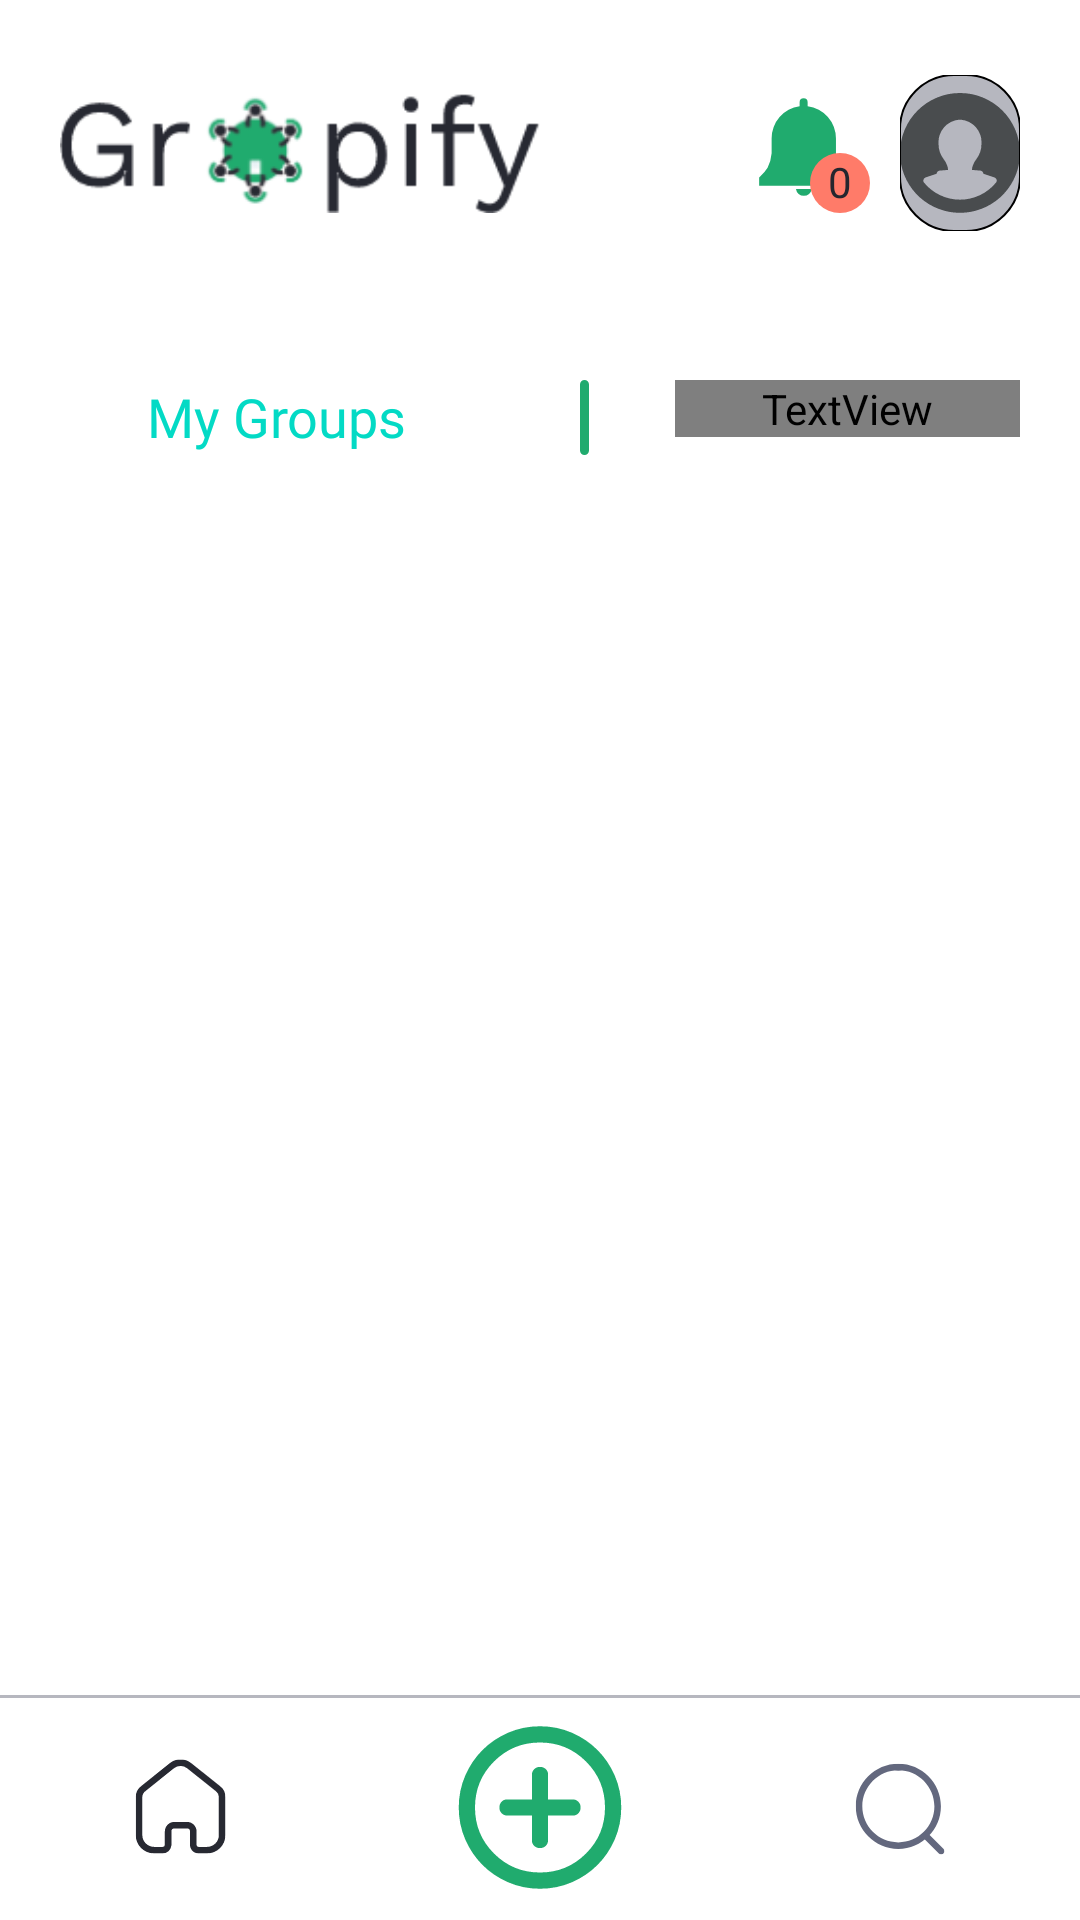

Named icons in this screenshot (1080×1920) and their centers, (x=x, y=y):
bar add: (x=540, y=1807)
bar home: (x=181, y=1806)
bar search: (x=900, y=1809)
home notifications bell: (x=808, y=149)
profile: (x=960, y=153)
